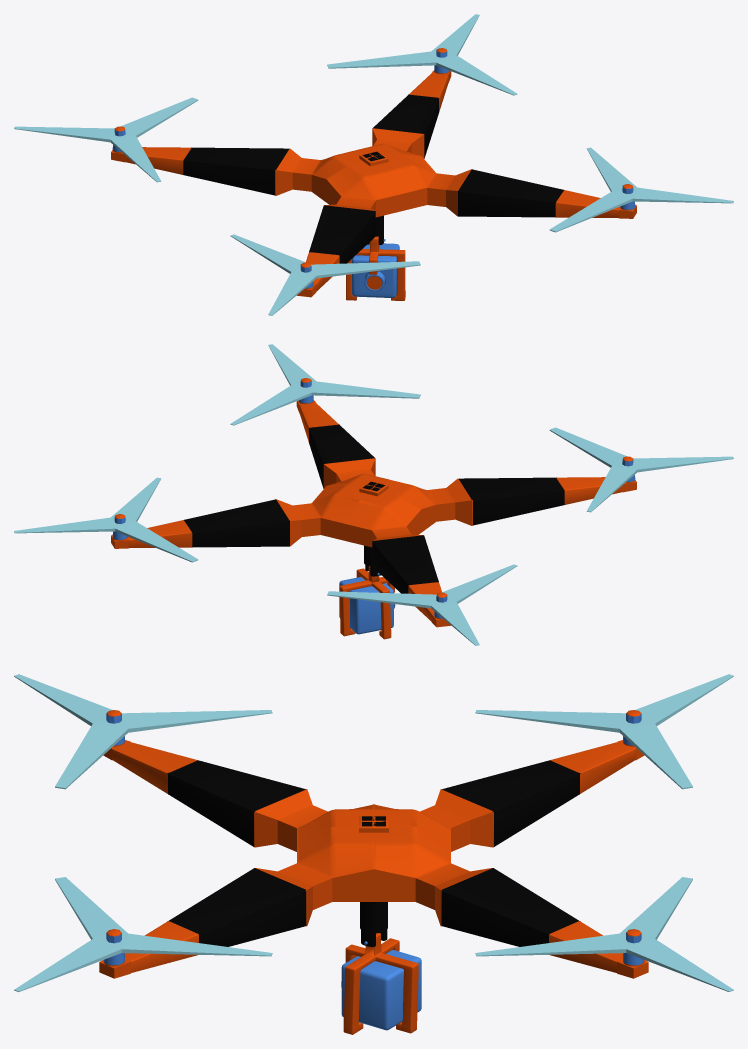
The model's file is enemy_dron.fbx.
3 views of the same model, one above another, from view 1: azimuth 30°, elevation 25°; view 2: azimuth 150°, elevation 25°; view 3: azimuth 270°, elevation 25° (orthographic). The views are drawn at different scales.
Visible parts, largest first — view 1: gövde, pervane, kamera, tutamacc; view 2: gövde, pervane, tutamacc, kamera; view 3: gövde, pervane, kamera, tutamacc, köprü.
Boxes of the visible parts, left/top/right/bottom form: gövde: left=111, top=48, right=636, bottom=297; pervane: left=14, top=14, right=733, bottom=315; kamera: left=352, top=243, right=399, bottom=297; tutamacc: left=346, top=236, right=405, bottom=300; gövde: left=111, top=378, right=636, bottom=627; pervane: left=14, top=344, right=733, bottom=645; tutamacc: left=339, top=566, right=394, bottom=639; kamera: left=339, top=577, right=395, bottom=634; gövde: left=99, top=710, right=648, bottom=978; pervane: left=14, top=674, right=733, bottom=991; kamera: left=341, top=949, right=421, bottom=1030; tutamacc: left=343, top=933, right=418, bottom=1034; köprü: left=360, top=902, right=387, bottom=946.
Size of the model in its own units: 424 by 124 by 406.
